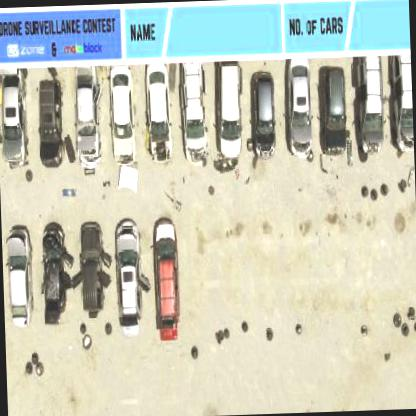car: (112, 220, 141, 338), (152, 217, 180, 338), (38, 224, 70, 324), (4, 225, 32, 324), (250, 70, 278, 162), (322, 67, 348, 162), (287, 58, 311, 158), (36, 77, 62, 169), (78, 220, 104, 312), (348, 60, 368, 162)
